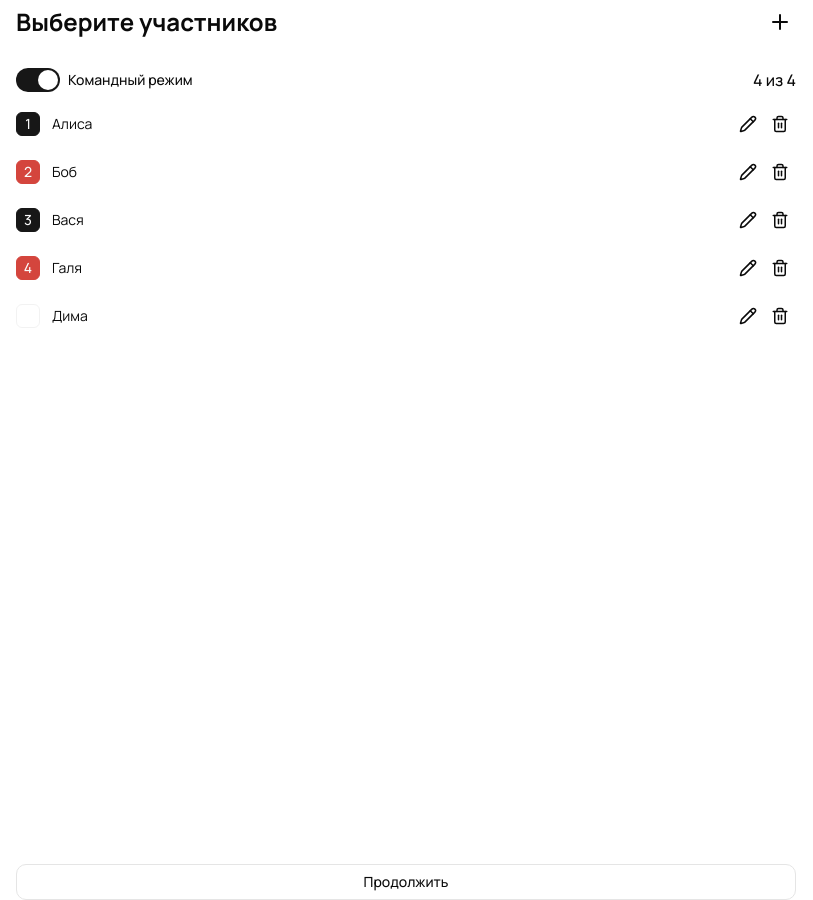
it: Participants page › navigates to /teams when continuing in team mode with 4 players
Click the button "Продолжить": (406, 882) top-left (16, 864), bottom-right (796, 899)
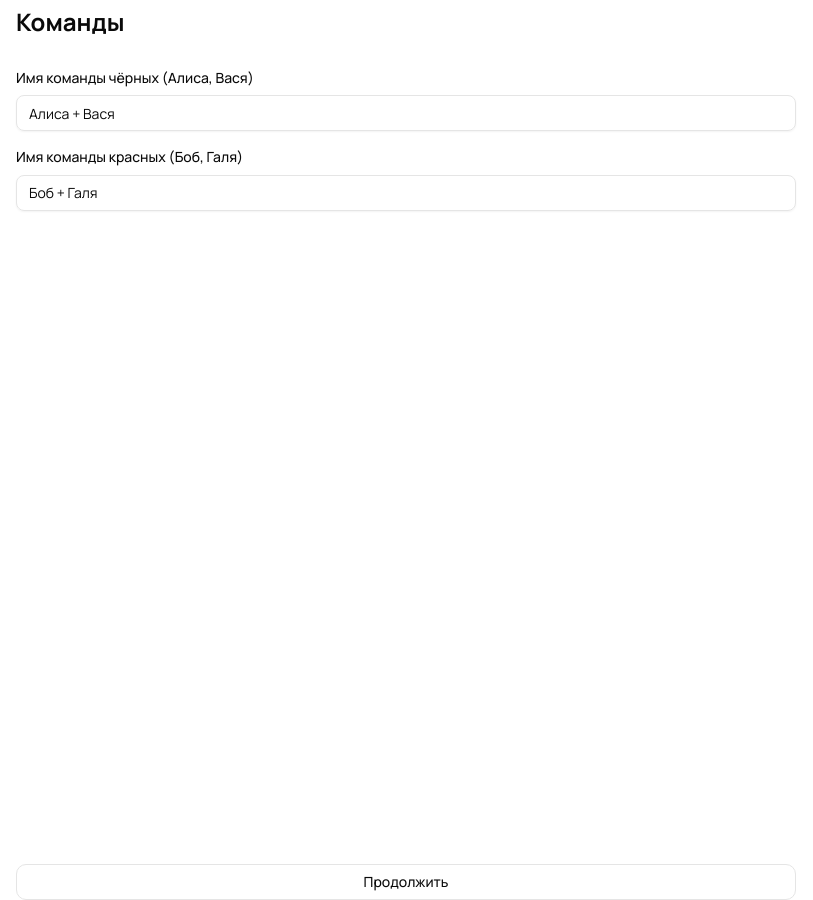
expect the heading "Команды" is shown: met, box top-left (16, 4), bottom-right (124, 40)
